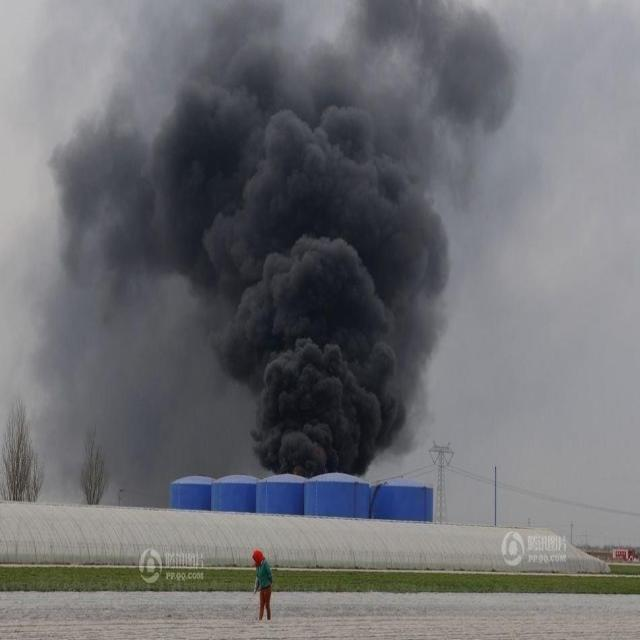Smoke: (45, 1, 517, 482)
